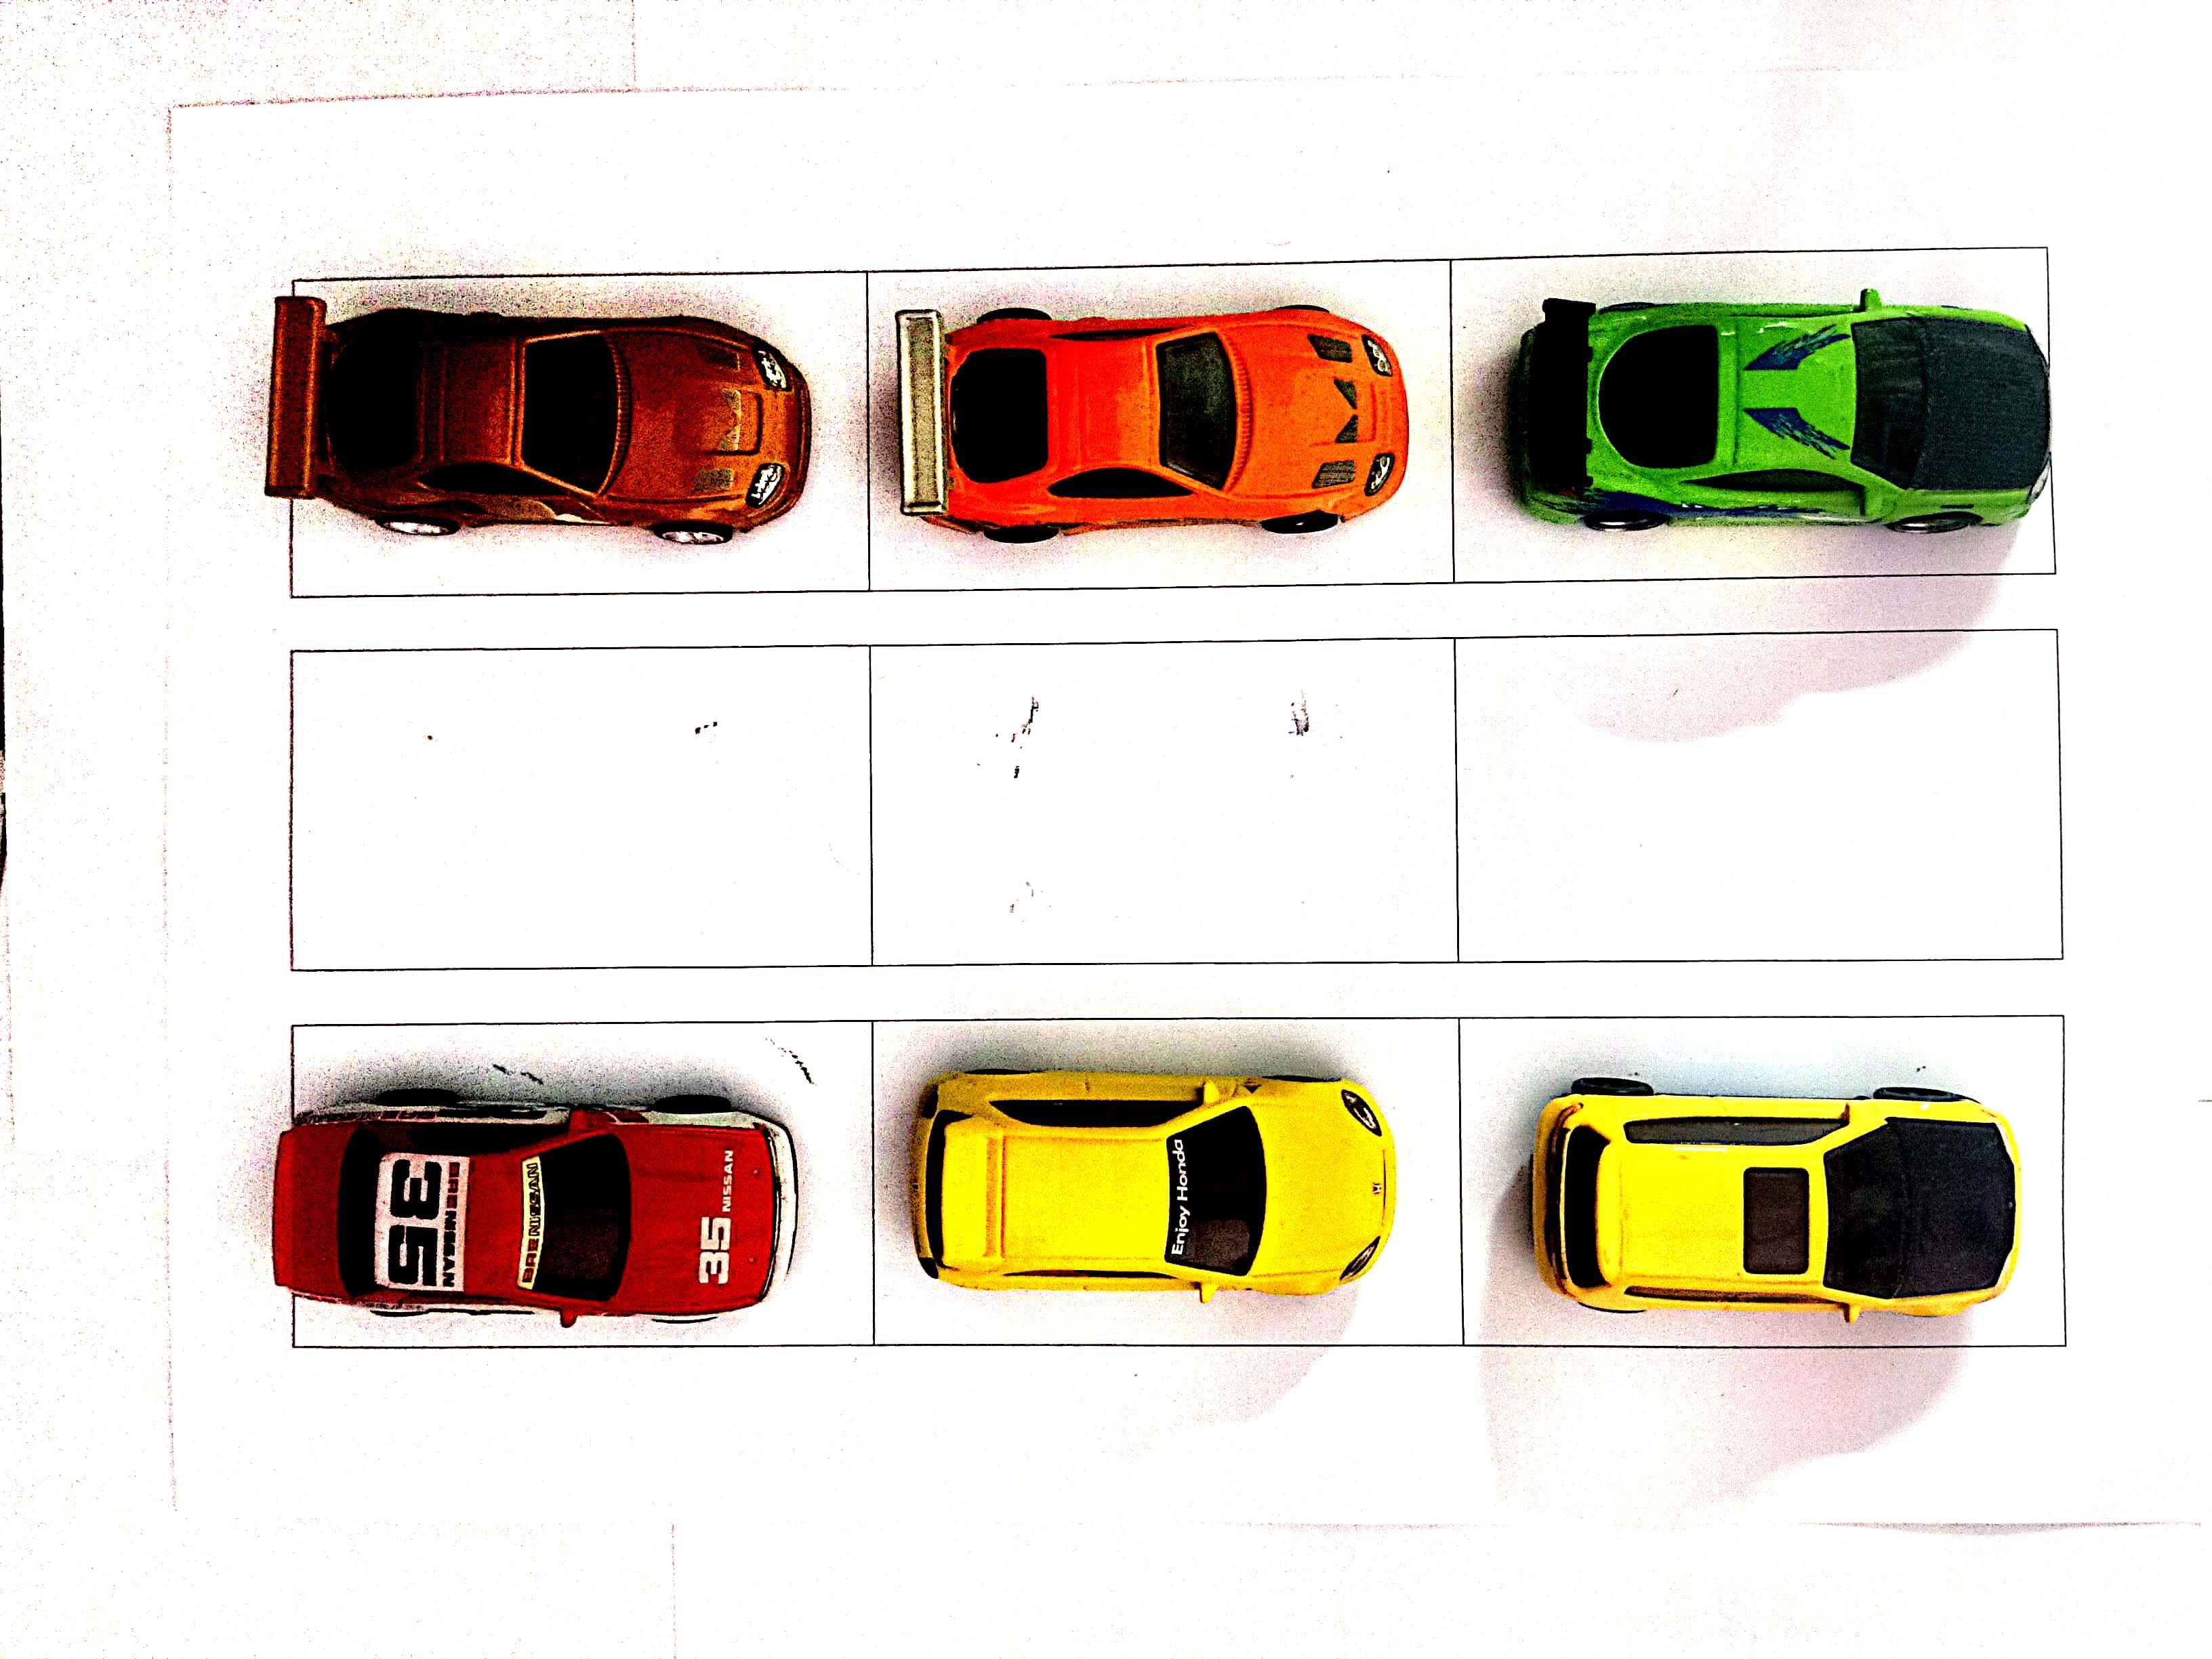Busy: (1458, 1026, 2055, 1354), (869, 1018, 1458, 1349), (1458, 253, 2047, 577), (291, 1026, 869, 1351), (869, 263, 1449, 586), (296, 275, 860, 601)
Free: (1460, 633, 2054, 967), (871, 636, 1458, 964), (286, 645, 866, 964)
